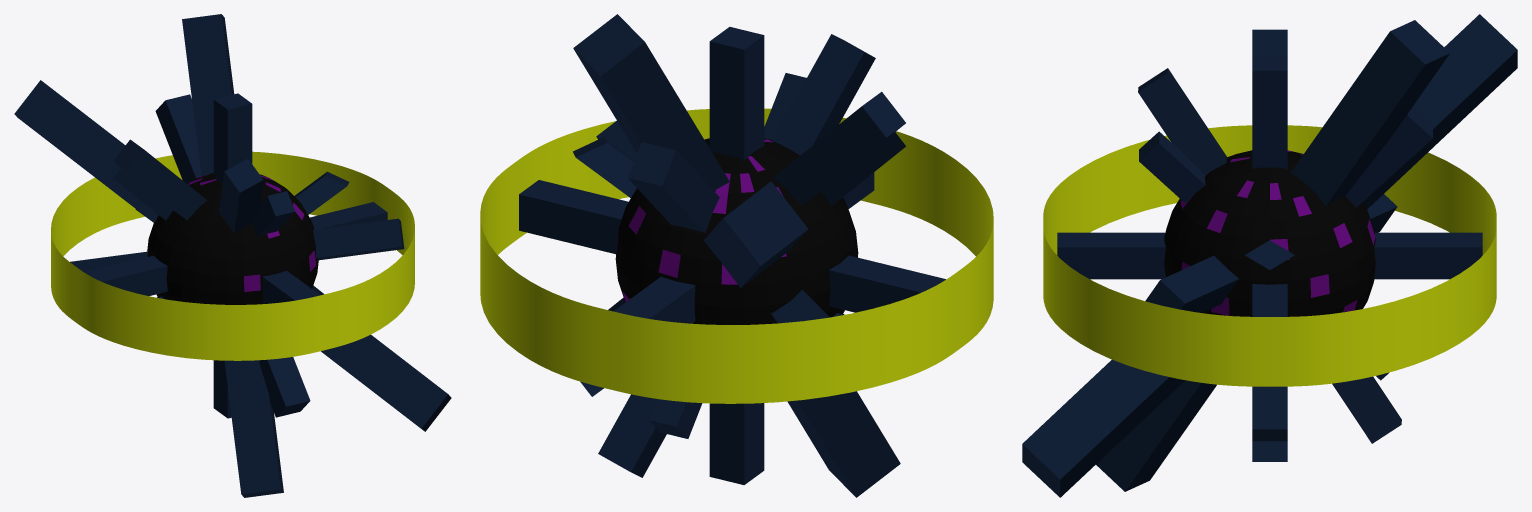
Rendered from ANTIMATERIA.fbx.
3 views of the same model, side by side, from view 1: azimuth 30°, elevation 25°; view 2: azimuth 150°, elevation 25°; view 3: azimuth 270°, elevation 25° (orthographic). The views are drawn at different scales.
Visible parts, largest first — view 1: Cube.010, Surface, Sphere; view 2: Cube.010, Surface, Sphere; view 3: Cube.010, Surface, Sphere.
Part boxes in pixels (x1,y1,x2,y2): Cube.010: (14, 14, 451, 497); Surface: (51, 151, 414, 360); Sphere: (147, 173, 318, 304); Cube.010: (519, 14, 945, 497); Surface: (480, 108, 993, 403); Sphere: (615, 138, 858, 324); Cube.010: (1022, 14, 1517, 497); Surface: (1043, 125, 1496, 386); Sphere: (1164, 150, 1375, 316).
Bounding box in the file's own units: 2566 × 3083 × 2803.
